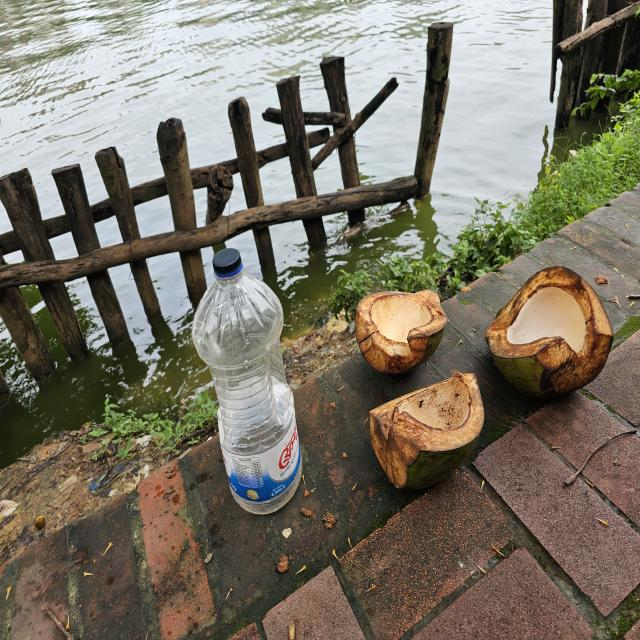artificial_container: (190, 246, 302, 516)
